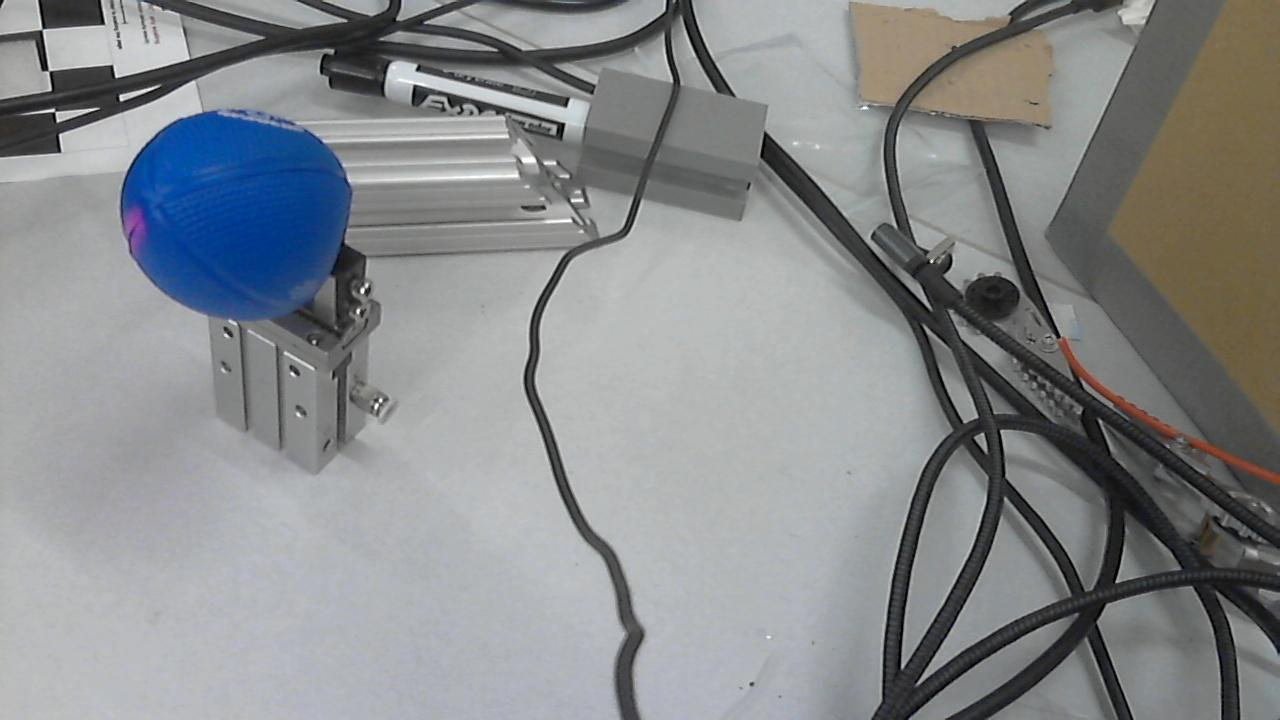Object toy football - Material foam - Color blue - Pdfname VT1ffZoLOnKv: (96, 202, 170, 264)
